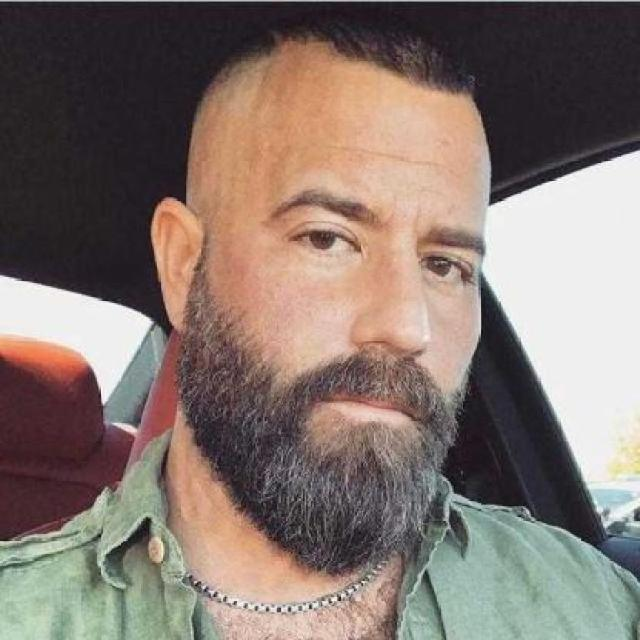0_rostro_limpio: (155, 21, 483, 548)
